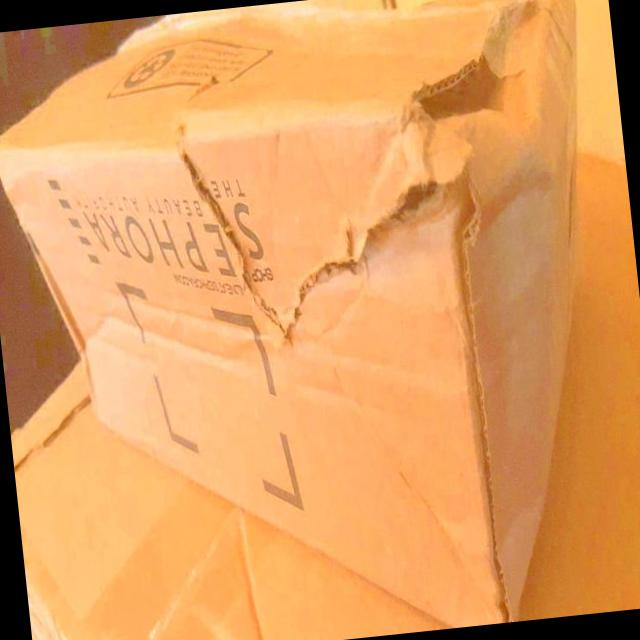box: (1, 1, 581, 633)
crushed: (22, 80, 537, 402)
tear: (401, 52, 501, 119)
